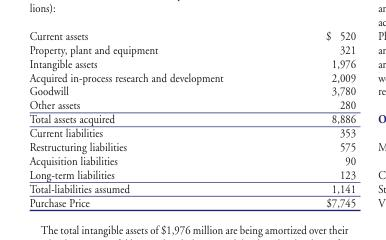table: (28, 28, 355, 208)
table column: (28, 28, 273, 208), (273, 28, 355, 208)
table row: (28, 28, 355, 42), (28, 42, 355, 56), (28, 56, 355, 70), (28, 70, 355, 84), (28, 97, 355, 111), (28, 111, 355, 125), (28, 125, 355, 139), (28, 139, 355, 153), (28, 153, 355, 167), (28, 167, 355, 181), (28, 181, 355, 195), (28, 84, 355, 97), (28, 195, 355, 208)
